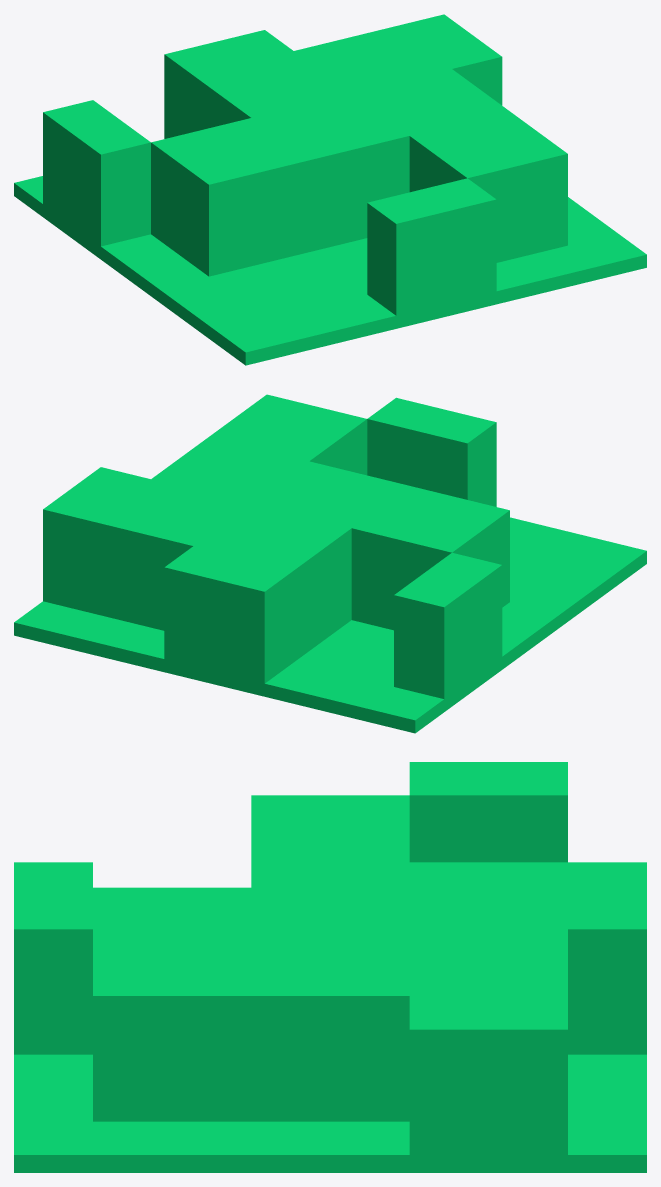
The model's file is tileset_template.fbx_TilesetShape.fbx.
3 views of the same model, one above another, from view 1: azimuth 30°, elevation 25°; view 2: azimuth 150°, elevation 25°; view 3: azimuth 270°, elevation 25° (orthographic). The views are drawn at different scales.
Parts seen in each view (by area): view 1: BaseShape; view 2: BaseShape; view 3: BaseShape.
Part boxes in pixels (<box>): BaseShape: <box>14,14,646,365</box>; BaseShape: <box>14,394,646,733</box>; BaseShape: <box>14,762,646,1172</box>.
Size of the model in its own units: 800 by 200 by 800.
